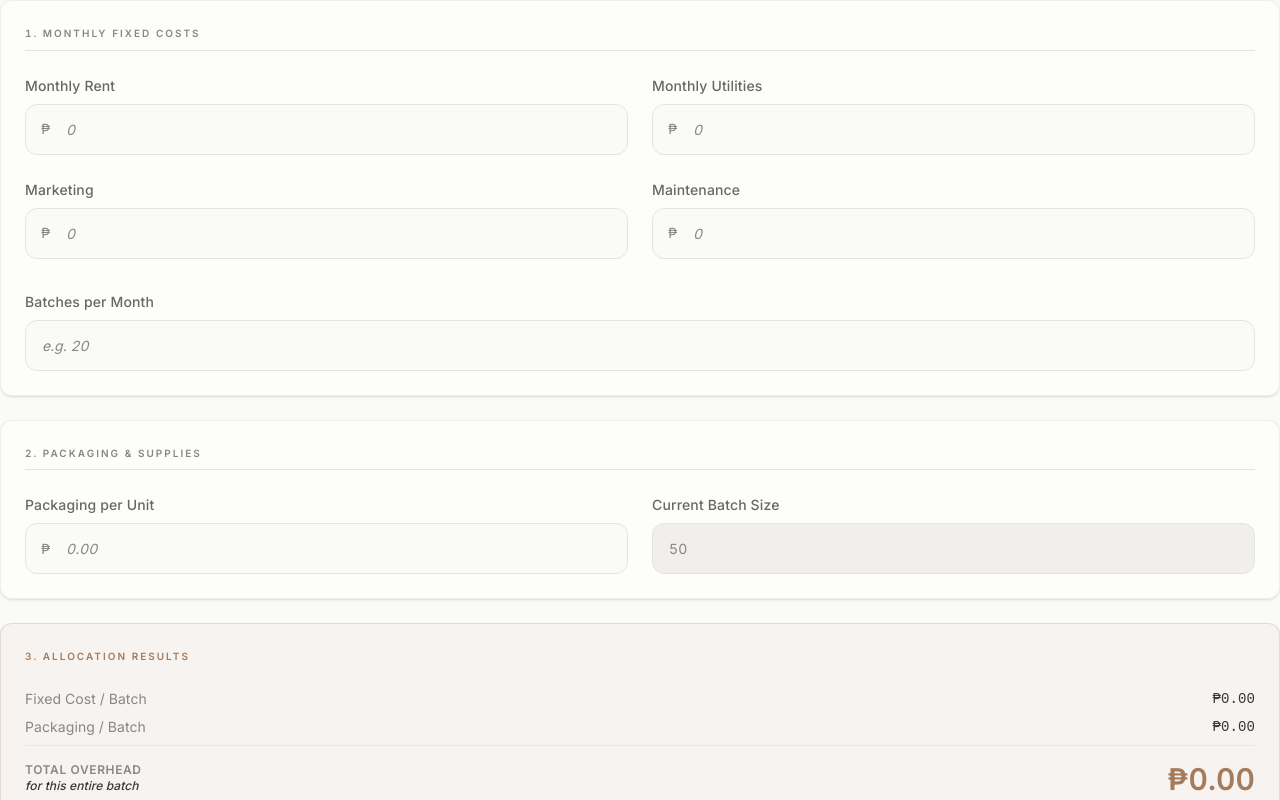
Scenario: OverheadCalculator › updates when batch size changes
Type "10" into the number field labelled "Packaging per Unit". click: [326, 548]
box: 25,523 -> 628,574
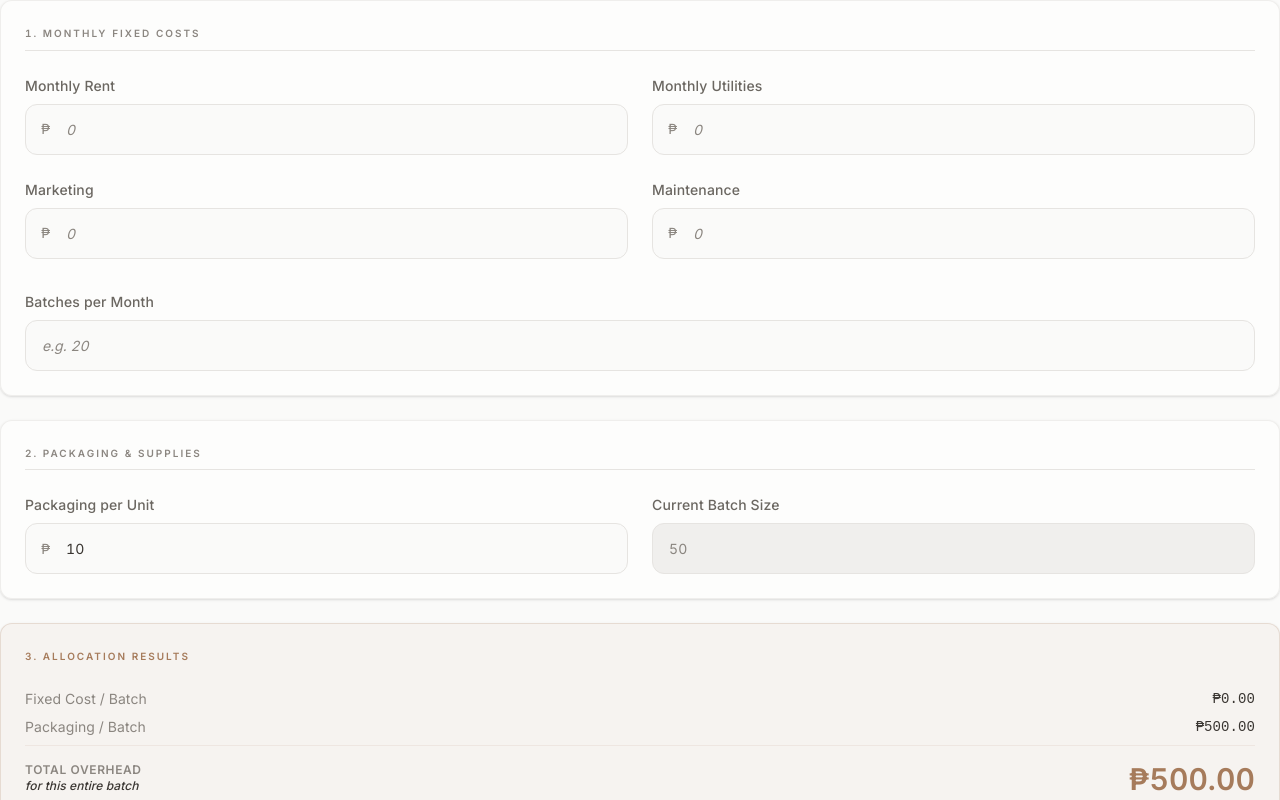
Check: the text "₱500.00" in the row of "Packaging / Batch" is shown, box 1196,716 -> 1255,736
